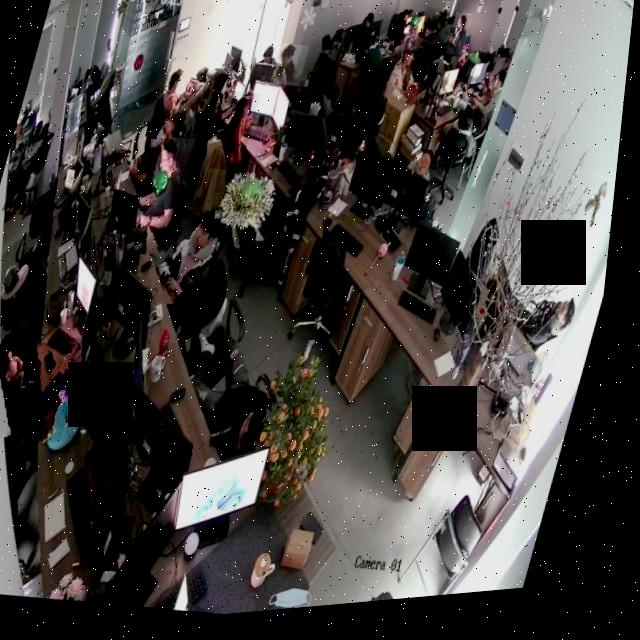person: (0, 334, 95, 451), (127, 135, 200, 264), (155, 208, 238, 316), (153, 57, 235, 137), (9, 120, 59, 218), (125, 121, 181, 205), (212, 93, 263, 178), (380, 49, 436, 115), (196, 72, 236, 140), (415, 13, 458, 69), (272, 47, 311, 93), (446, 20, 475, 66)
